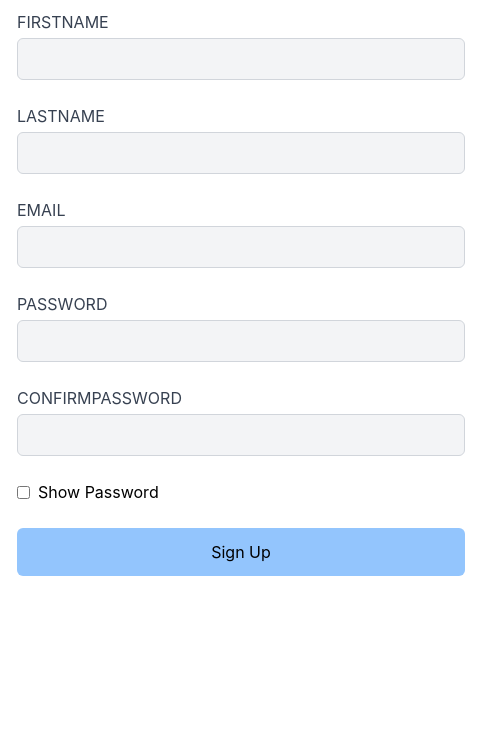
Test: validation error message is shown when form is submitted with invalid password with no uppercase characters
In the password field with test id "password": (241, 341) [17,320,465,362], type "test1233"
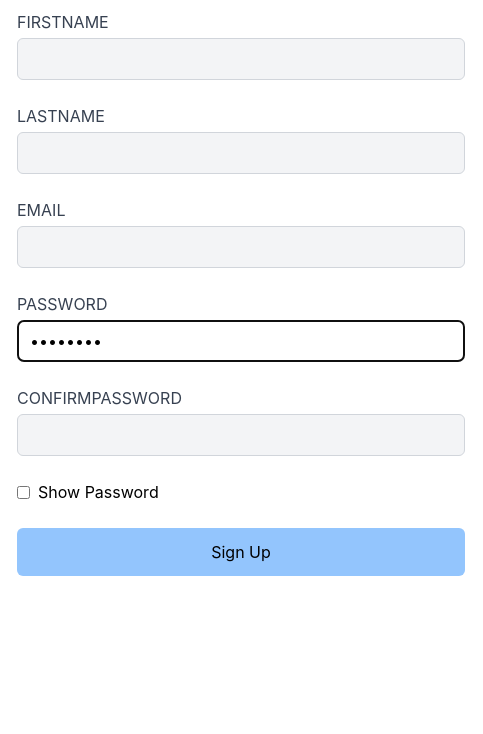
Click the button with test id "signupbutton": click(241, 552) [17,528,465,576]
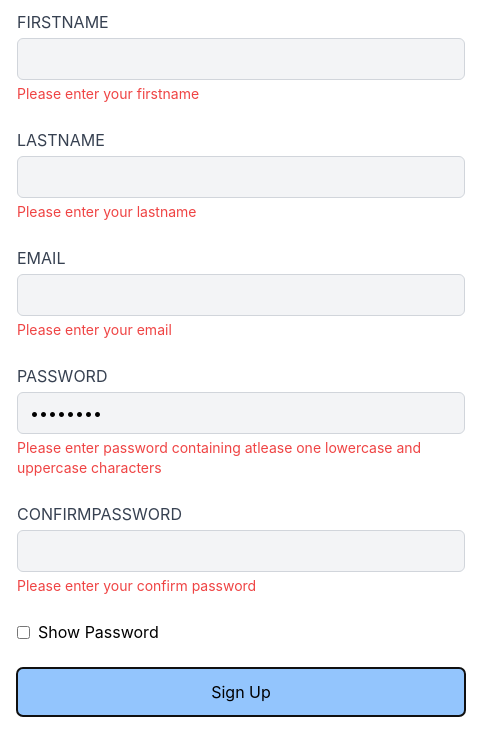
expect the text "Please enter password containing atlease one lowercase and uppercase characters" is shown: met, box [17,438,465,478]
